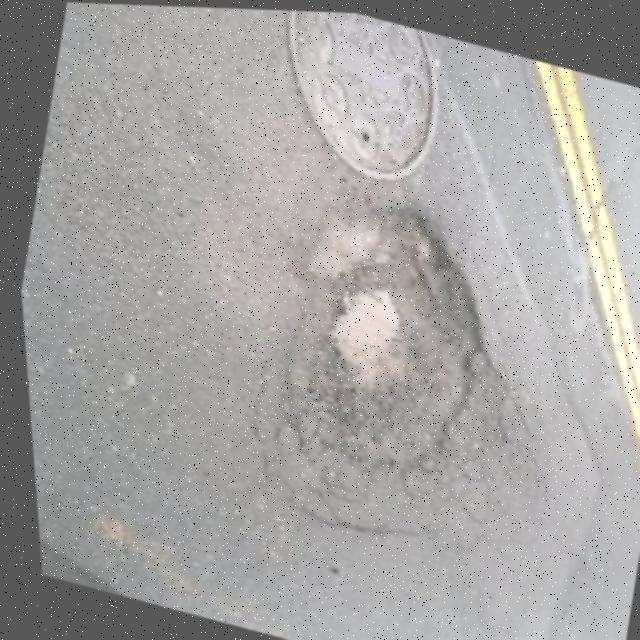pothole: (247, 178, 523, 487)
